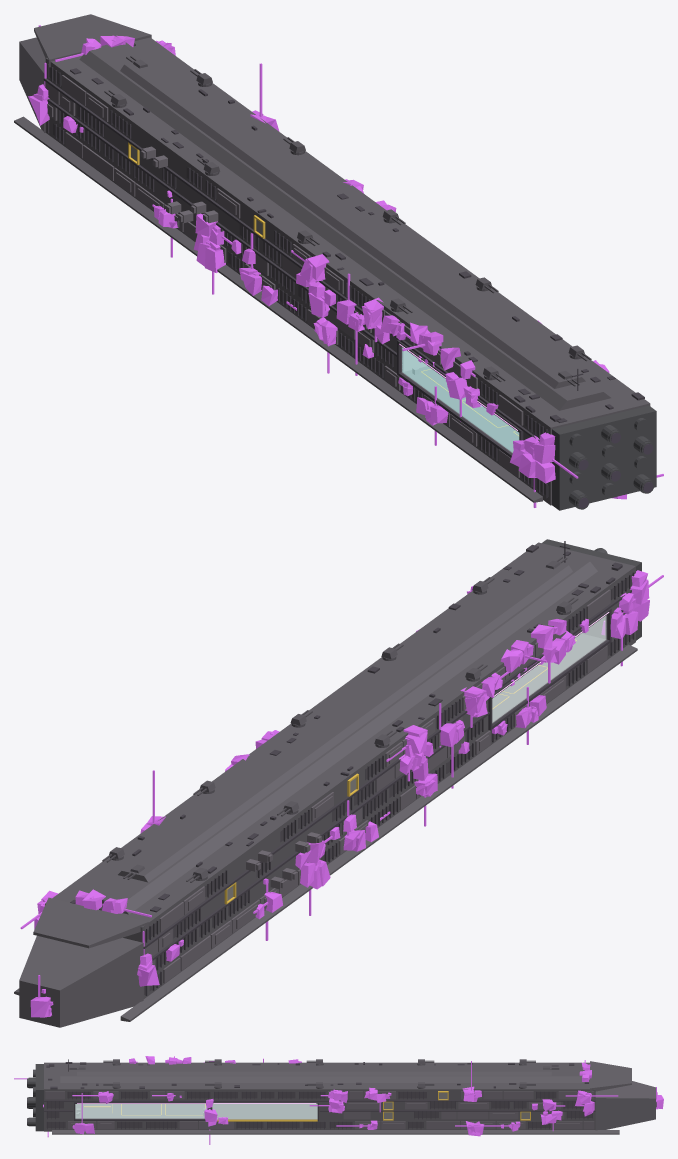
The model's file is ship_XL.glb.
The picture shows the model from 3 angles, top to bottom: view 1: azimuth 30°, elevation 25°; view 2: azimuth 150°, elevation 25°; view 3: azimuth 270°, elevation 25°; orthographic projection. The views are drawn at different scales.
Parts seen in each view (by area): view 1: XL_Hull-col, XL_Growth, XL_Trim, XL_Engines, XL_Armor, XL_Accent, XL_HangarShield_Port, XL_Decks-col, XL_Details; view 2: XL_Hull-col, XL_Growth, XL_Trim, XL_Armor, XL_Accent, XL_HangarShield_Port, XL_Decks-col, XL_Details, XL_Engines; view 3: XL_Hull-col, XL_Armor, XL_Growth, XL_Accent, XL_Trim, XL_HangarShield_Starboard, XL_Decks-col, XL_CargoBayShield, XL_CargoBayDoor-col, XL_Engines, XL_Hazard, XL_Details (+1 smaller).
Part boxes in pixels (x1,y1,x2,y2): XL_Hull-col: (14, 14, 650, 505); XL_Growth: (28, 25, 663, 507); XL_Trim: (43, 64, 547, 498); XL_Engines: (552, 405, 656, 510); XL_Armor: (45, 75, 650, 477); XL_Accent: (49, 67, 548, 496); XL_HangarShield_Port: (402, 347, 519, 452); XL_Decks-col: (404, 366, 519, 451); XL_Details: (70, 43, 644, 422); XL_Hull-col: (14, 542, 637, 1027); XL_Growth: (20, 570, 663, 1017); XL_Trim: (143, 572, 634, 995); XL_Armor: (144, 589, 610, 983); XL_Accent: (144, 574, 632, 994); XL_HangarShield_Port: (492, 615, 606, 722); XL_Decks-col: (492, 633, 604, 721); XL_Details: (70, 541, 622, 912); XL_Engines: (33, 539, 641, 998); XL_Hull-col: (44, 1061, 655, 1134); XL_Armor: (45, 1091, 594, 1129); XL_Growth: (14, 1056, 663, 1144); XL_Accent: (46, 1092, 592, 1127); XL_Trim: (44, 1091, 595, 1129); XL_HangarShield_Starboard: (75, 1104, 206, 1118); XL_Decks-col: (75, 1104, 206, 1118); XL_CargoBayShield: (212, 1103, 317, 1119); XL_CargoBayDoor-col: (212, 1103, 317, 1119); XL_Engines: (27, 1064, 656, 1131); XL_Hazard: (84, 1091, 530, 1121); XL_Details: (46, 1059, 588, 1089).
Size of the model in its own units: 33.34 by 35.98 by 237.
